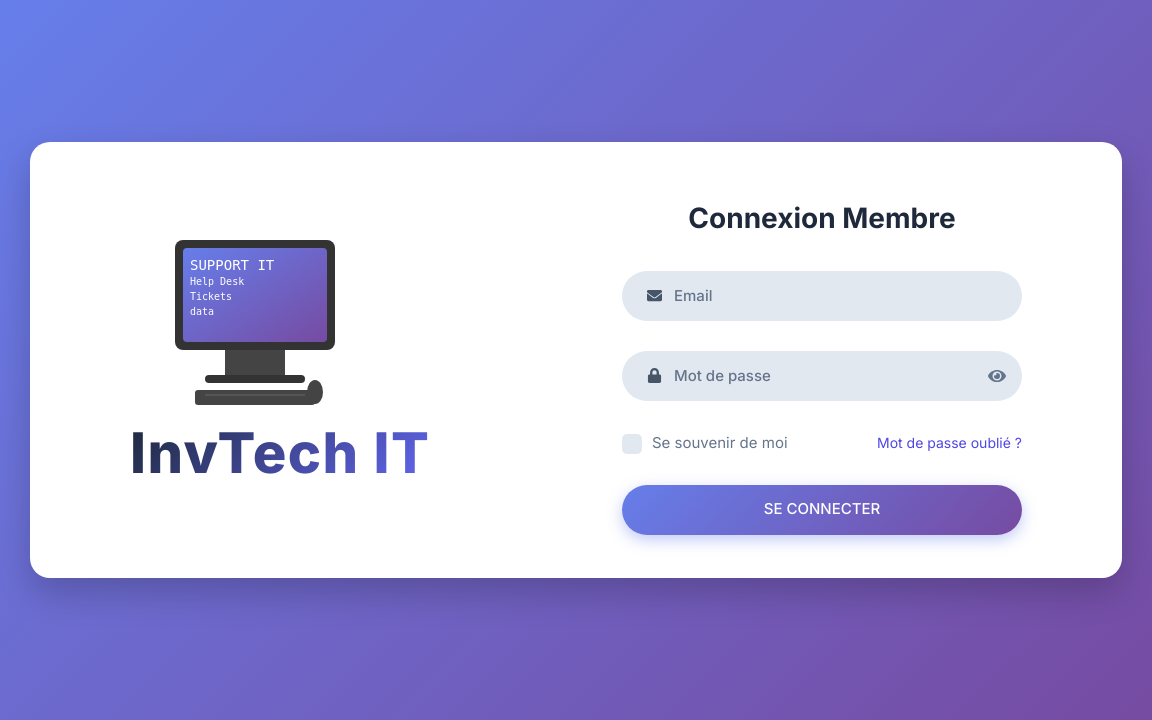
Test: Login - validation cote client › affiche une erreur si le mot de passe fait moins de 7 caracteres
In the field with placeholder "Email": (822, 296) [622, 271, 1022, 321], type "user@example.com"
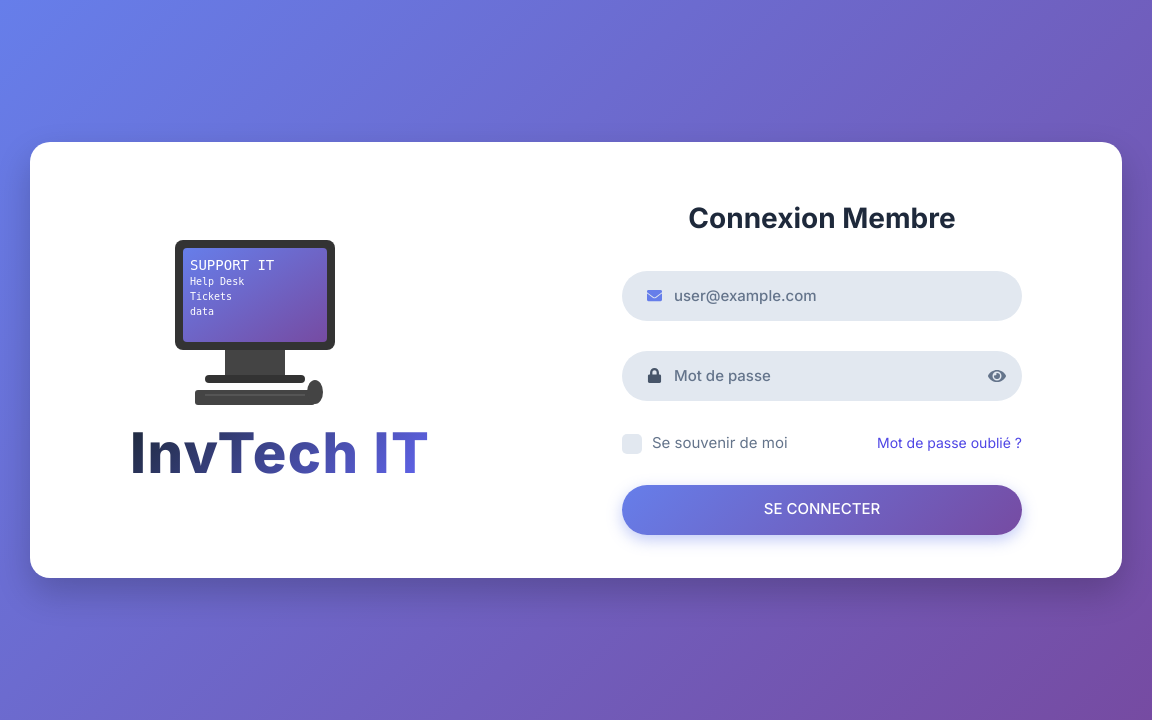
In the password field with placeholder "Mot de passe": (822, 376) [622, 351, 1022, 401], type "abc12"
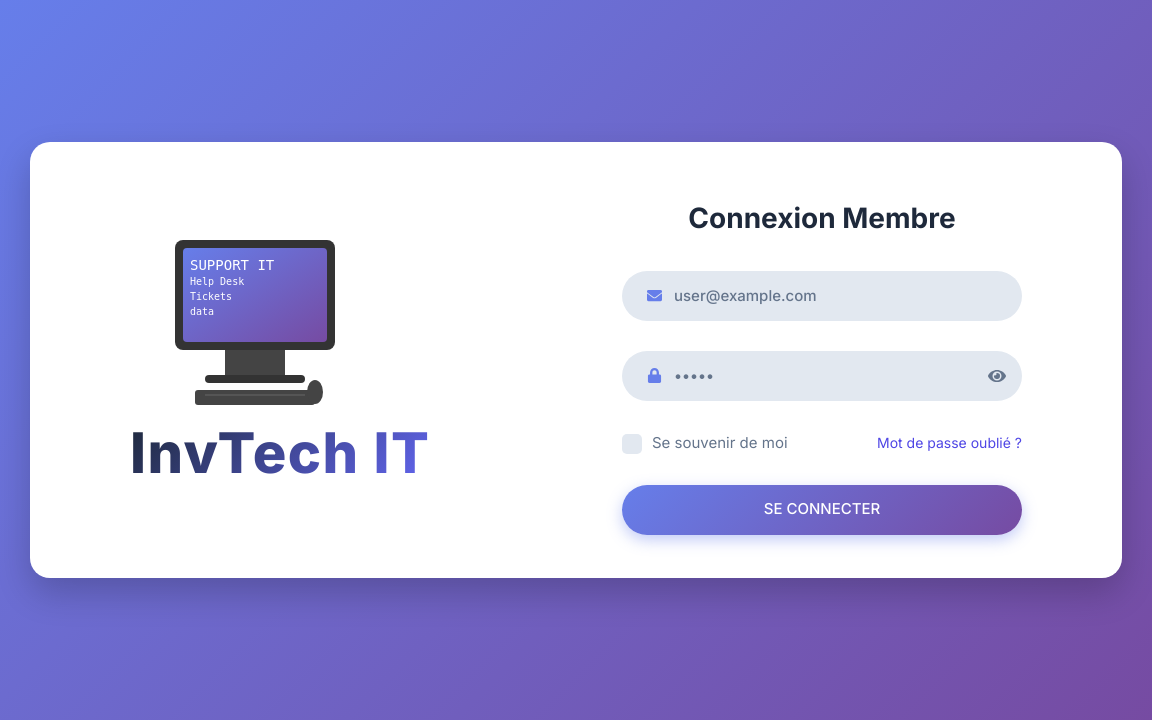
Click the button "Se connecter": (822, 510) [622, 485, 1022, 535]
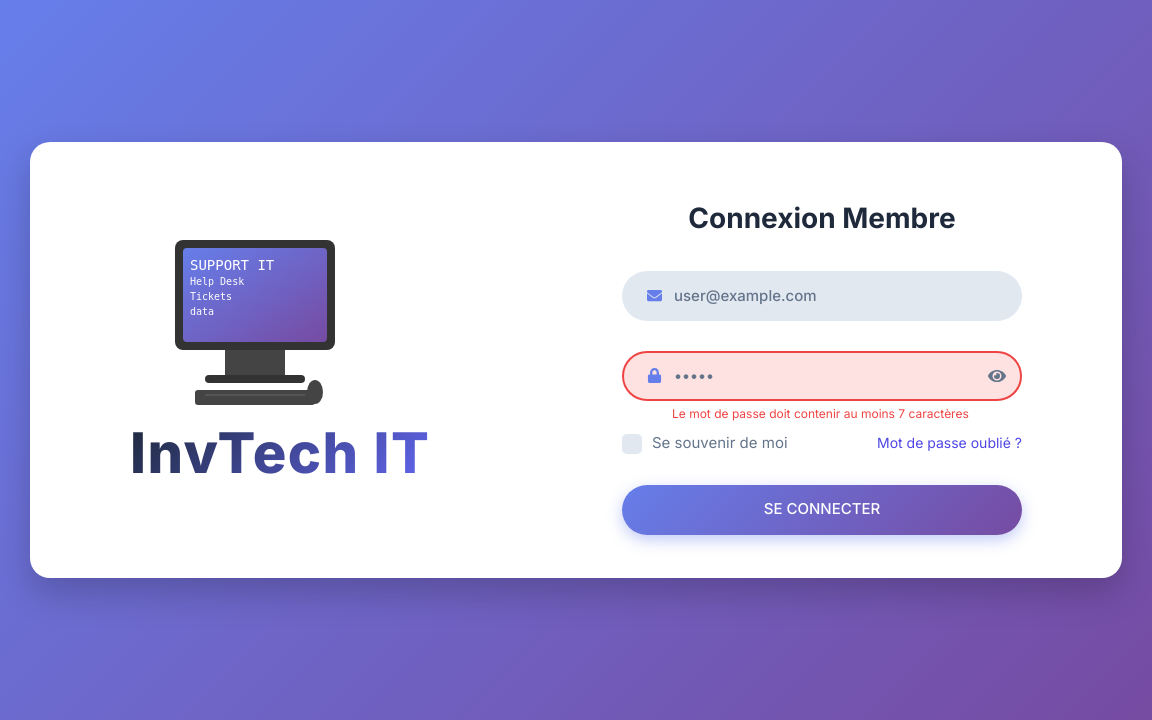
Now the text "Le mot de passe doit contenir au moins 7 caractères" is shown, box [672, 406, 969, 421]
